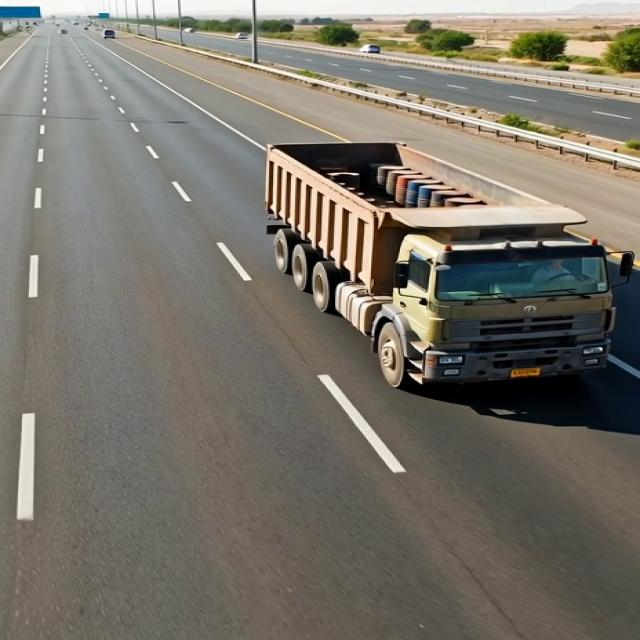Box: (236, 142, 590, 232)
Truck: (221, 98, 634, 420)
